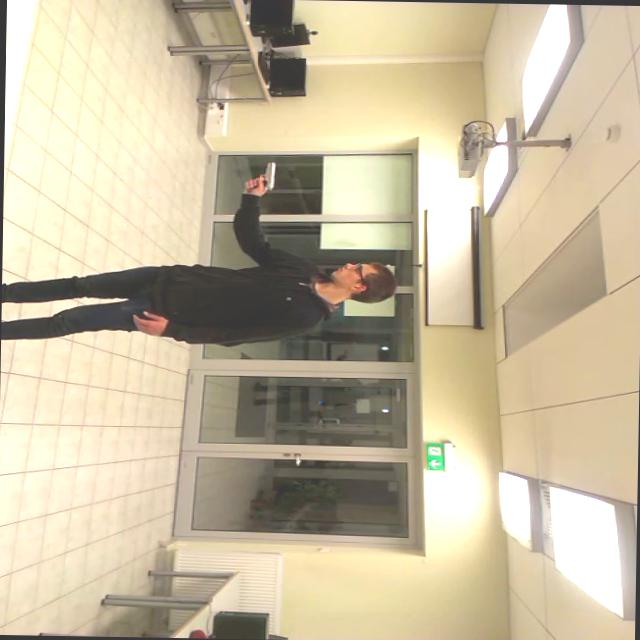handgun: (242, 159, 286, 197)
